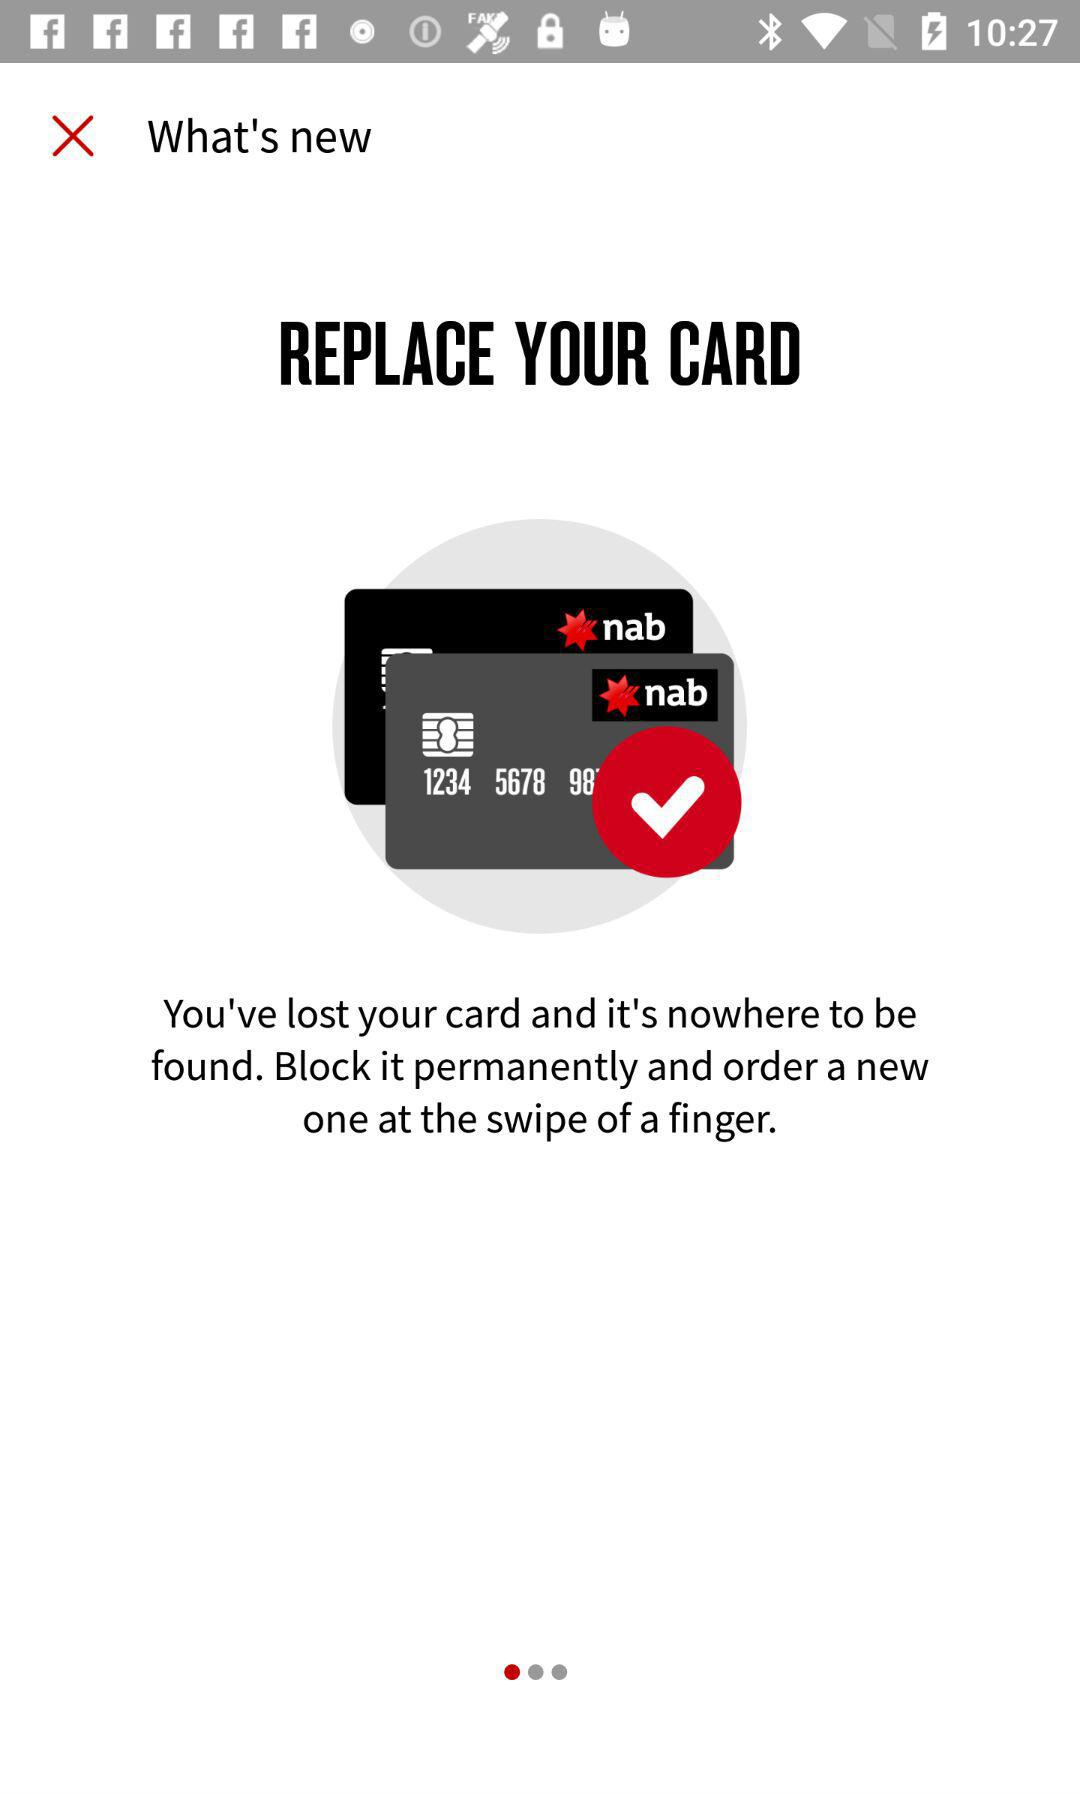Icon: (53, 115, 96, 159)
Image: (331, 519, 748, 935)
PageIndicator: (503, 1663, 569, 1681)
Text: (151, 996, 930, 1144), (281, 322, 801, 388), (147, 118, 373, 155)
UpperTaskBar: (1, 1, 1080, 64)
